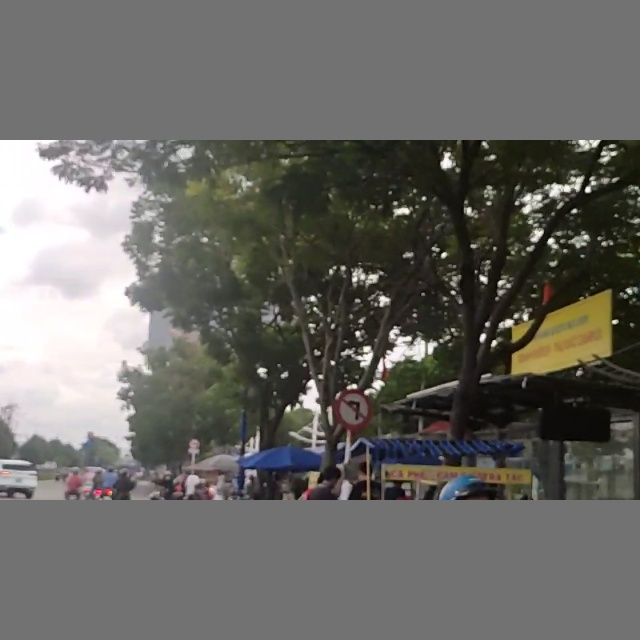P.123a: (335, 389, 369, 428)
